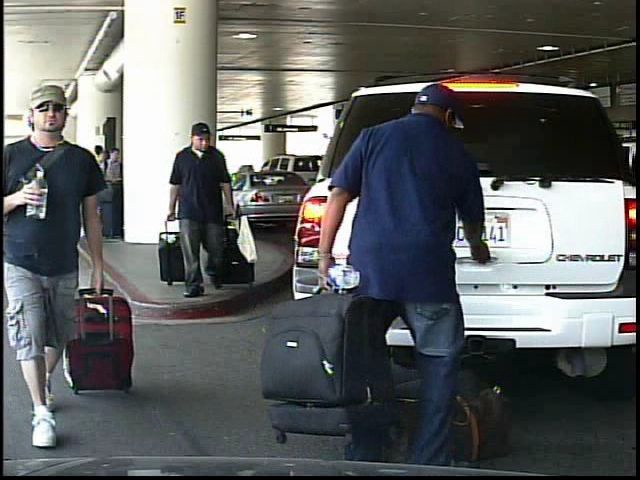person: (310, 75, 501, 473), (5, 81, 132, 451), (159, 120, 247, 299)
